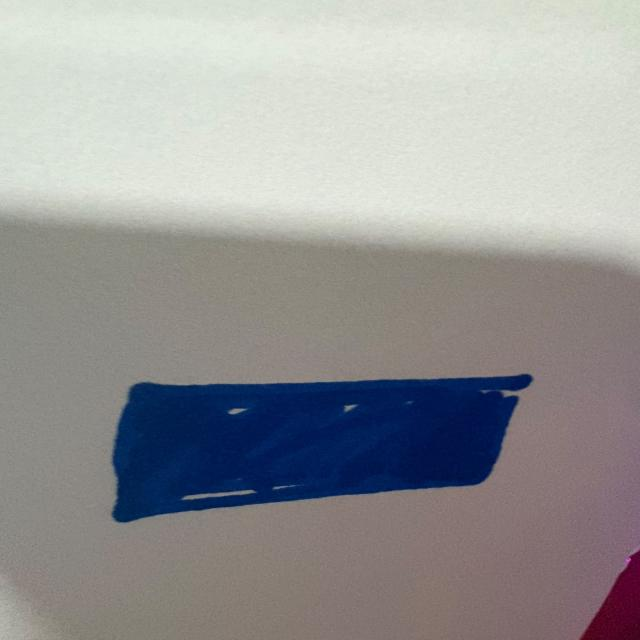Rectangle: (111, 374, 532, 523)
